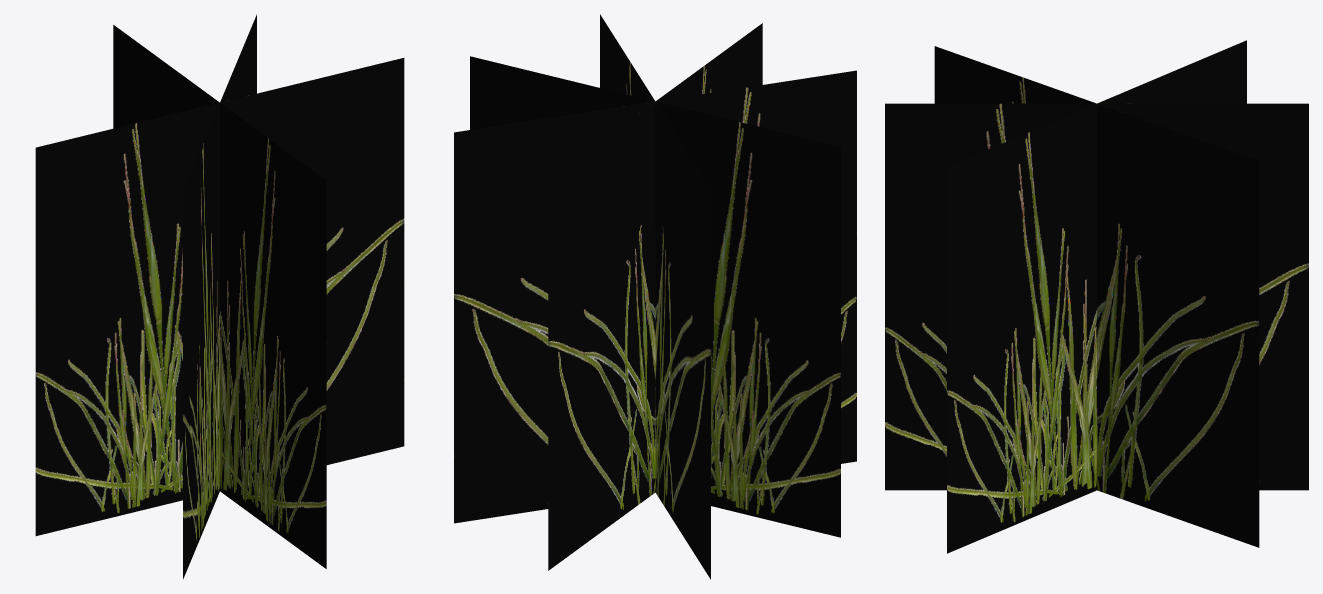
File: grass.glb
3 renders of one model, left to right at view 1: azimuth 30°, elevation 25°; view 2: azimuth 150°, elevation 25°; view 3: azimuth 270°, elevation 25°, orthographic.
Visible parts, largest first — view 1: 11_4f4cb09024b8d7d5c3d2bd792f0a3c96_0; view 2: 11_4f4cb09024b8d7d5c3d2bd792f0a3c96_0; view 3: 11_4f4cb09024b8d7d5c3d2bd792f0a3c96_0.
Part boxes in pixels (left/top/right/bottom): 11_4f4cb09024b8d7d5c3d2bd792f0a3c96_0: left=35, top=14, right=404, bottom=579; 11_4f4cb09024b8d7d5c3d2bd792f0a3c96_0: left=454, top=14, right=856, bottom=579; 11_4f4cb09024b8d7d5c3d2bd792f0a3c96_0: left=885, top=40, right=1308, bottom=553.
Size of the model in its own units: 0.9934 by 1 by 0.9934.
Materials: 1 (1 with a texture image).
